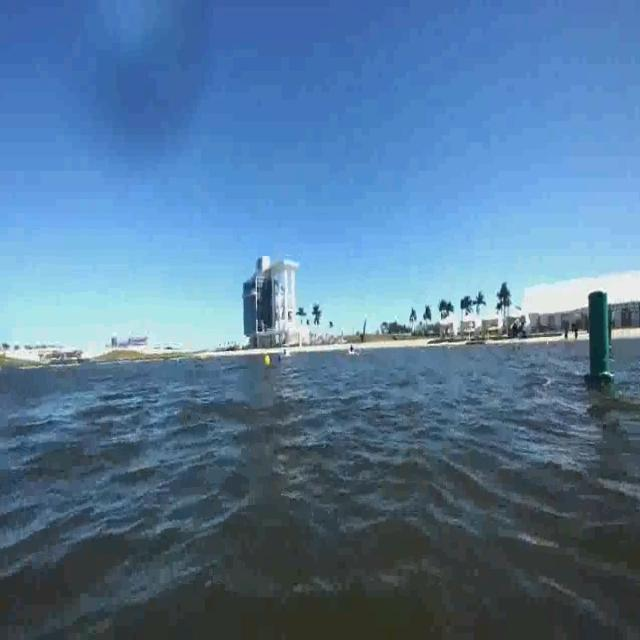green-column-buoy: (584, 289, 615, 387)
yellow-buoy: (265, 353, 274, 368)
